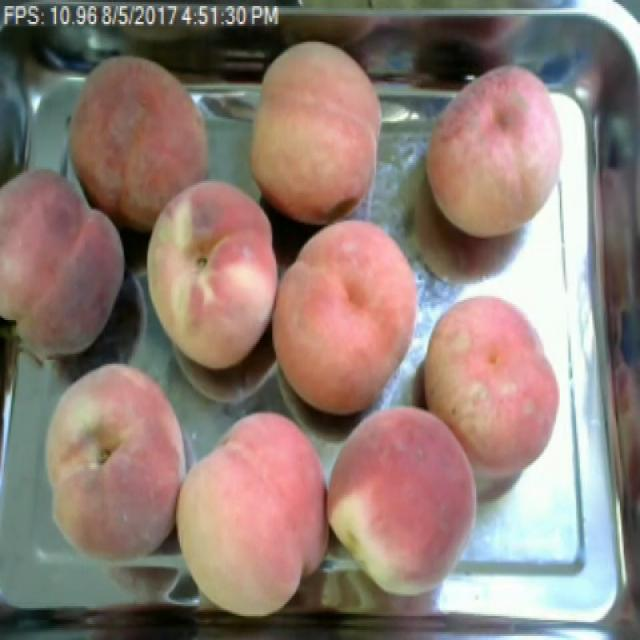Fruit: (166, 398, 346, 628), (23, 348, 200, 576), (315, 394, 489, 612), (50, 42, 226, 244), (271, 209, 432, 427), (413, 50, 580, 250), (409, 284, 576, 483), (130, 165, 278, 386), (238, 30, 394, 228), (0, 155, 140, 374)
